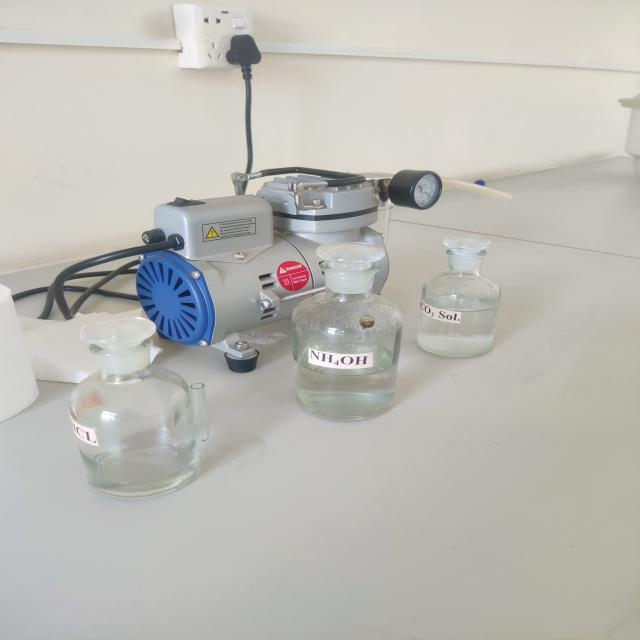Reagent_Bottle: (28, 299, 229, 522), (261, 216, 420, 446), (398, 223, 555, 377)
